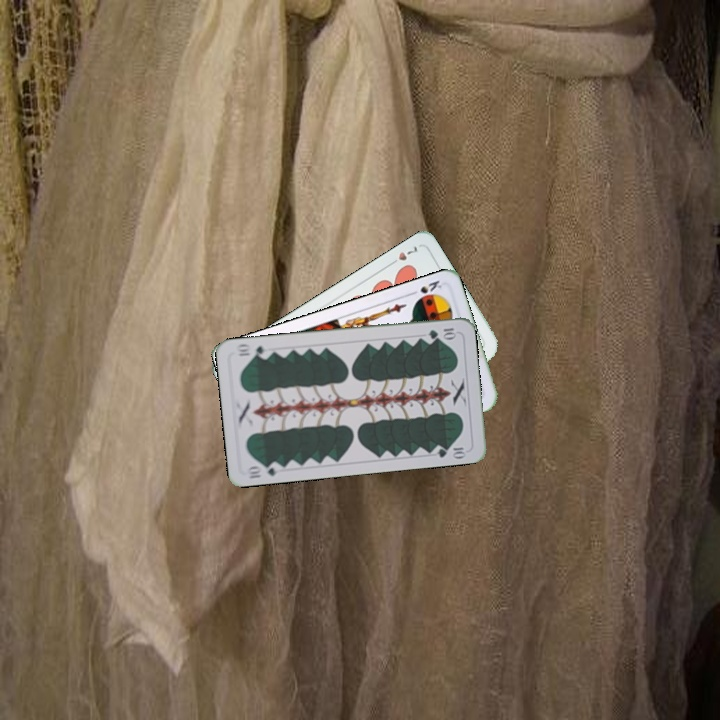G10: (243, 458, 283, 481), (424, 324, 459, 341)
H7: (385, 242, 421, 269)
SK: (405, 276, 445, 298)
